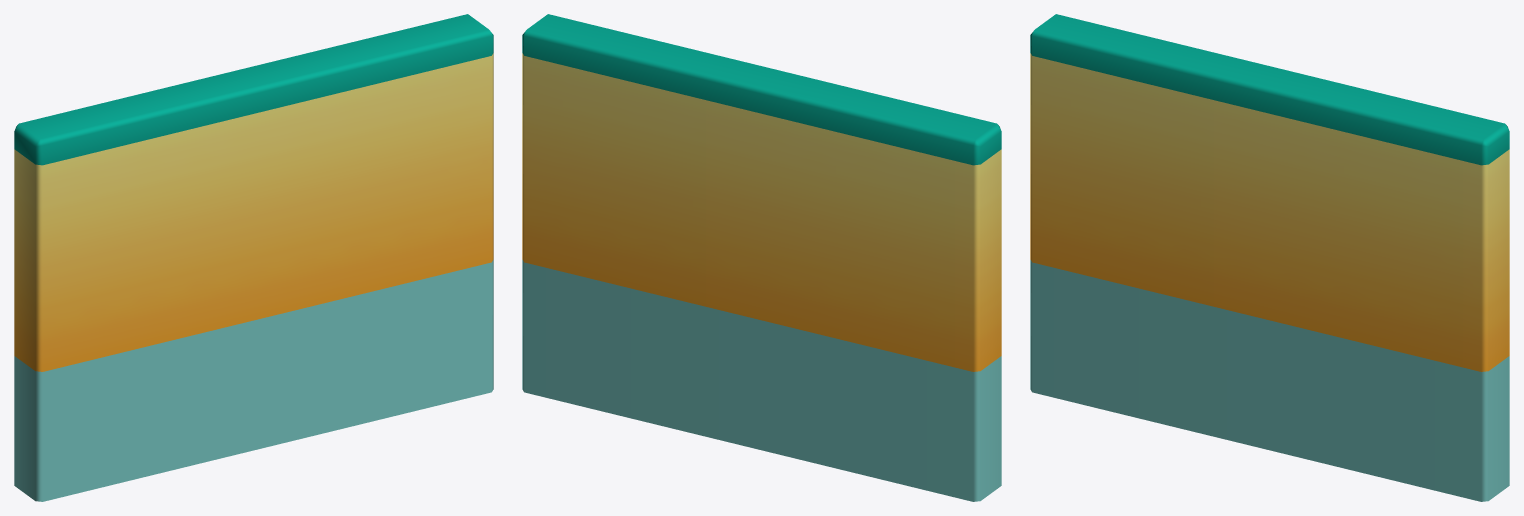
The model's file is Decor_wall_C.fbx.
The picture shows the model from 3 angles, left to right: view 1: azimuth 30°, elevation 25°; view 2: azimuth 150°, elevation 25°; view 3: azimuth 330°, elevation 25°; orthographic projection.
Visible parts, largest first — view 1: Decor_wall_C; view 2: Decor_wall_C; view 3: Decor_wall_C.
Part boxes in pixels (x1,y1,x2,y2): Decor_wall_C: (14, 14, 493, 501); Decor_wall_C: (522, 14, 1001, 501); Decor_wall_C: (1030, 14, 1509, 501).
Bounding box in the file's own units: 527 × 397 × 52.55.
